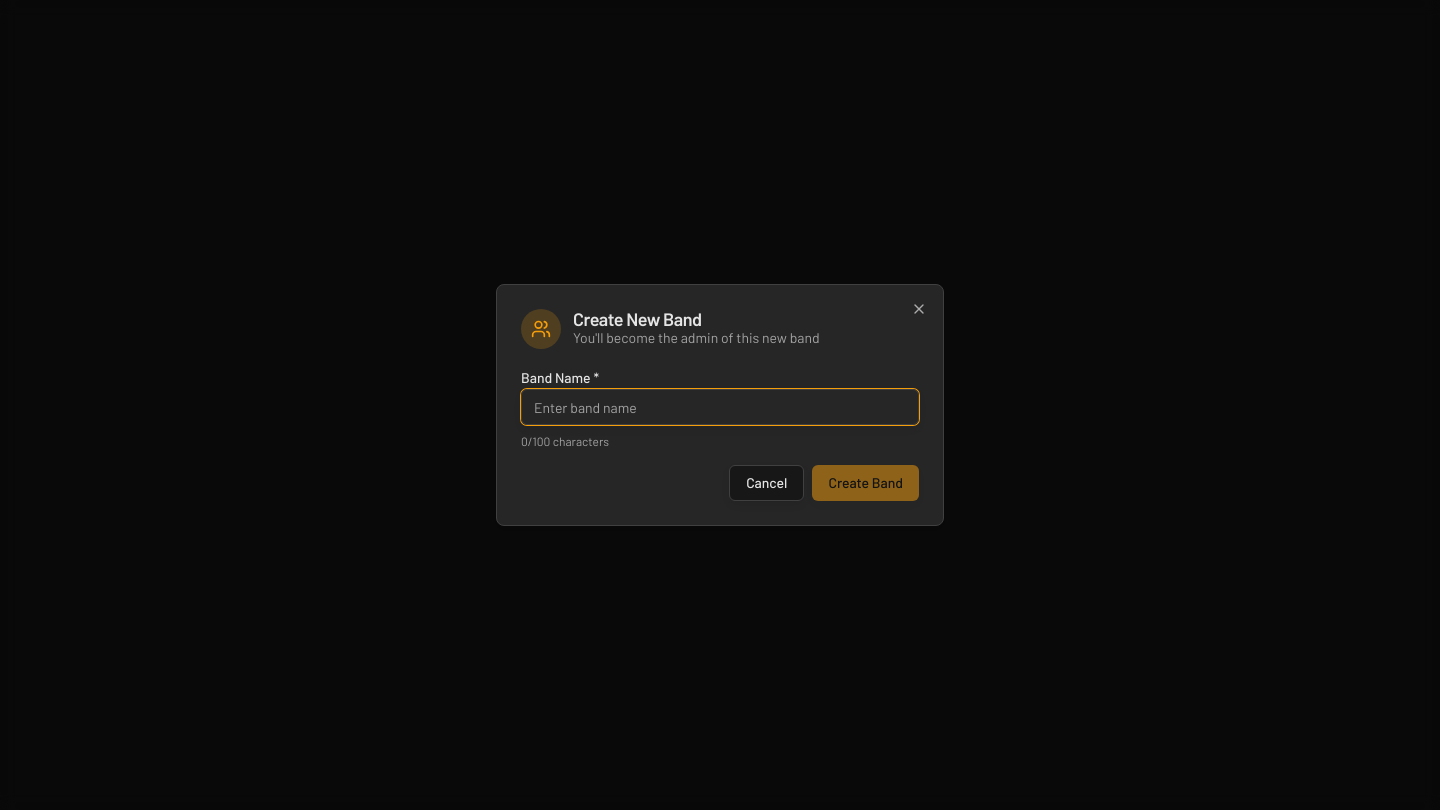
Test: CreateBandDialog › error handling › should show error message when submission fails
The image size is (1440, 810).
In the field labelled "Band Name *": (720,407) x1=521 y1=389 x2=919 y2=425, type "Test Band"
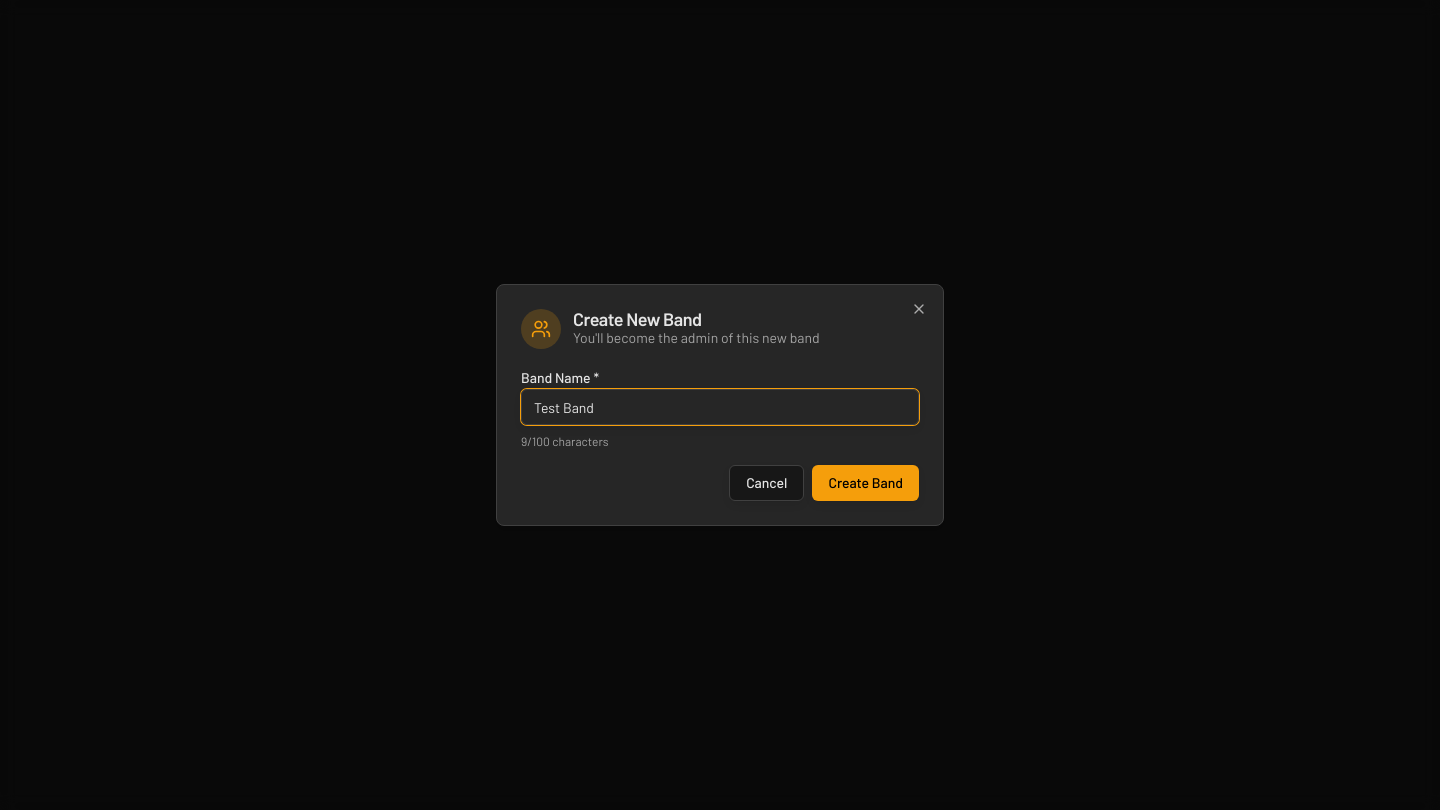
Click the button "Create Band": (866,483) x1=812 y1=465 x2=919 y2=501
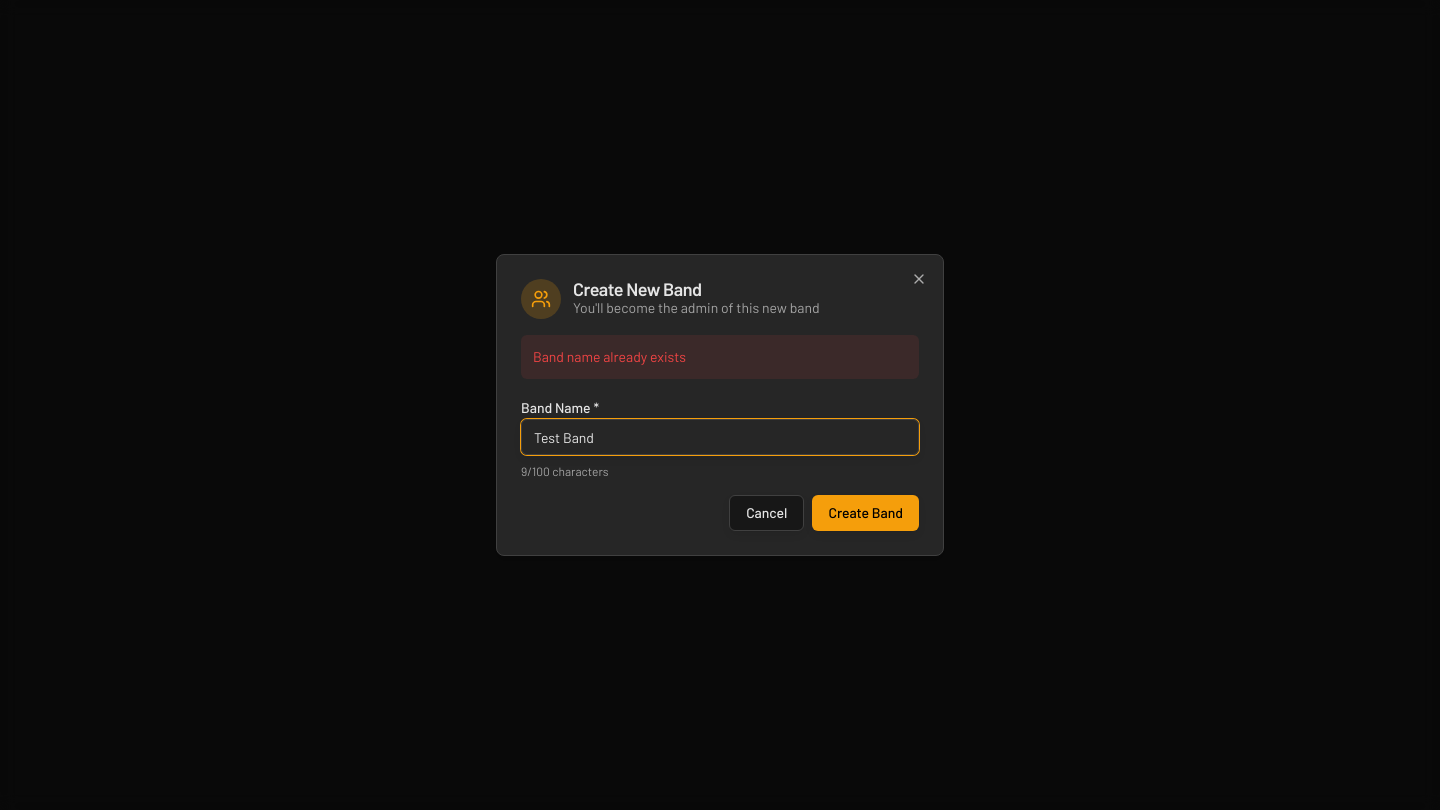
Expected: the text "Band name already exists" is shown, x1=521 y1=335 x2=919 y2=379
